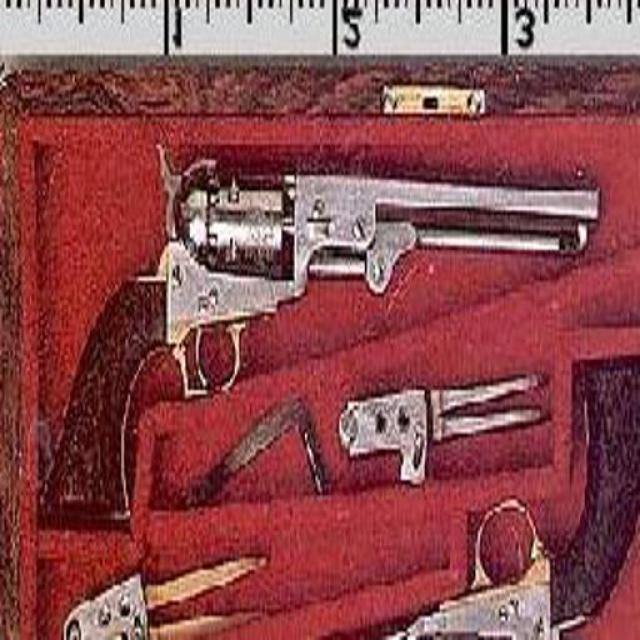pistol: (36, 144, 601, 526)
